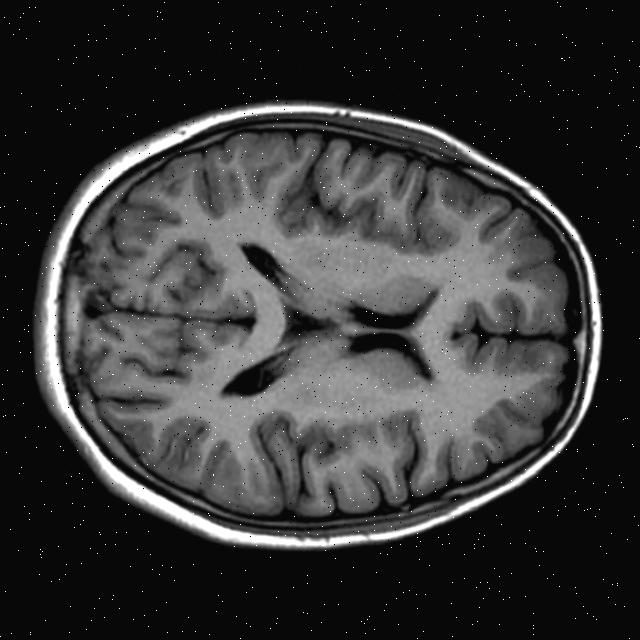NoTumor: (18, 86, 617, 565)
